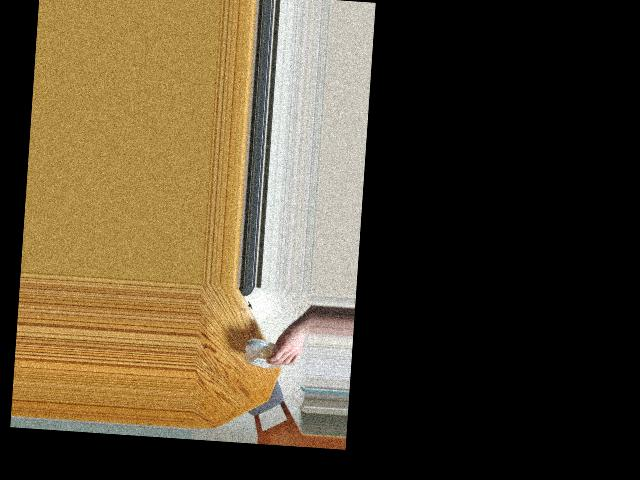cheese: (251, 335, 291, 371)
